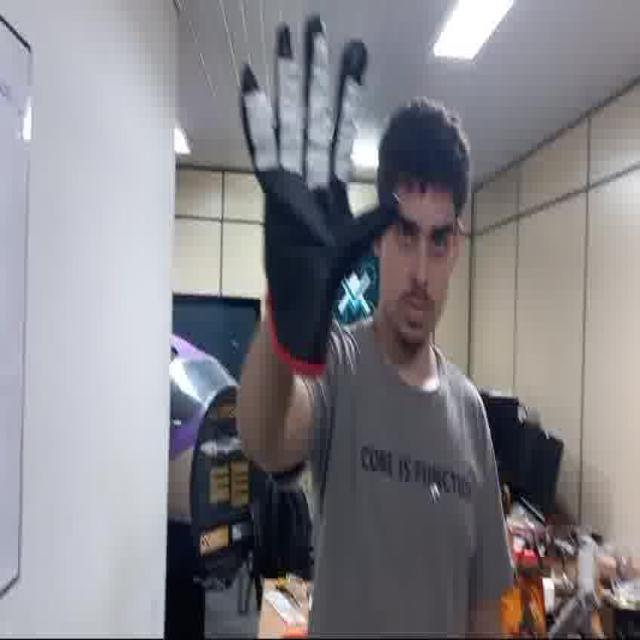Gloves: (238, 11, 400, 362)
